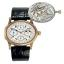watch: (4, 17, 38, 49)
